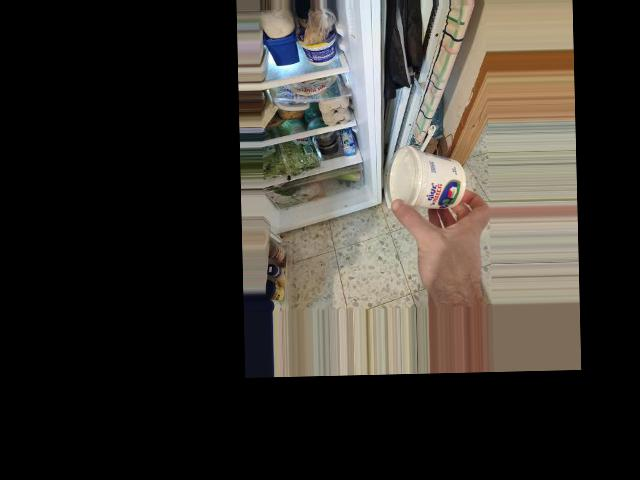cotage: (385, 142, 469, 222)
